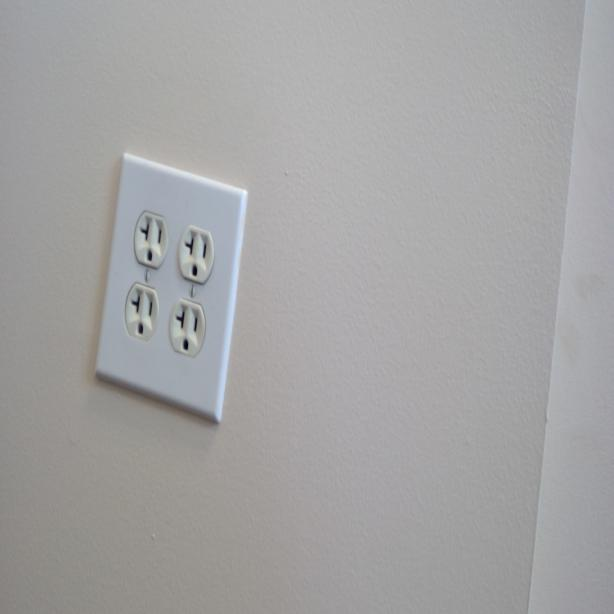typeb: (166, 292, 206, 358), (121, 284, 162, 340), (134, 210, 169, 267), (179, 226, 214, 282)
